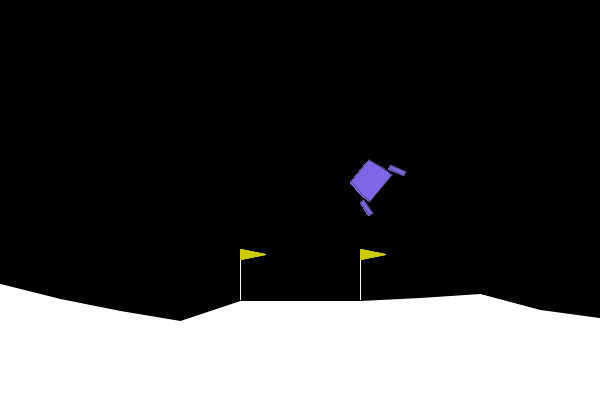lander: (339, 147, 408, 218)
